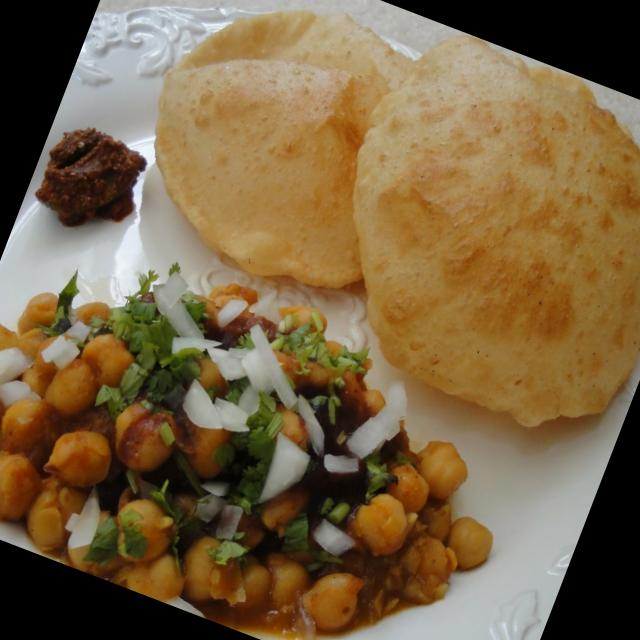Bhatura: (95, 0, 640, 461)
Chole: (0, 201, 548, 640)
